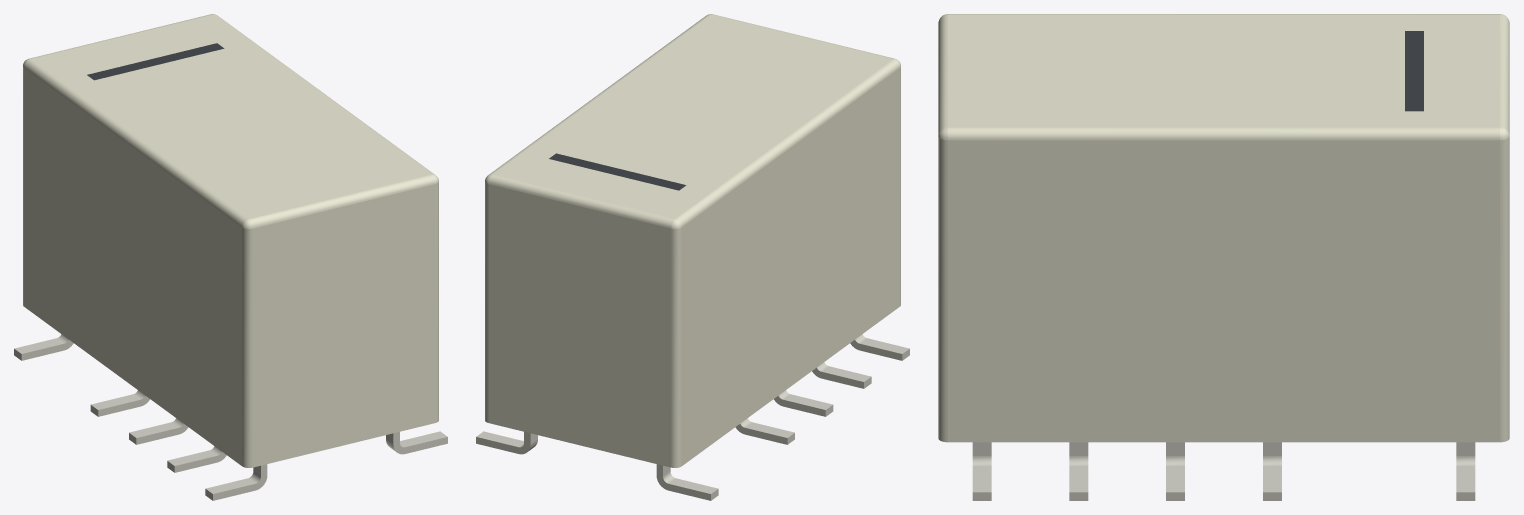
File: kc-relay_dpdt_kemet_ee2_nux_doublecoil.glb
The picture shows the model from 3 angles, left to right: view 1: azimuth 30°, elevation 25°; view 2: azimuth 150°, elevation 25°; view 3: azimuth 270°, elevation 25°; orthographic projection. The views are drawn at different scales.
Parts seen in each view (by area): view 1: 0.75_0.75_0.6666666666666666_0, 0.6666666666666666_0.6666666666666666_0.5833333333333334_0.8, 0.08333333333333333_0.08333333333333333_0.08333333333333333_; view 2: 0.75_0.75_0.6666666666666666_0, 0.6666666666666666_0.6666666666666666_0.5833333333333334_0.8, 0.08333333333333333_0.08333333333333333_0.08333333333333333_; view 3: 0.75_0.75_0.6666666666666666_0, 0.6666666666666666_0.6666666666666666_0.5833333333333334_0.8, 0.08333333333333333_0.08333333333333333_0.08333333333333333_.
Part boxes in pixels (left/top/right/bottom): 0.75_0.75_0.6666666666666666_0: left=23, top=14, right=438, bottom=467; 0.6666666666666666_0.6666666666666666_0.5833333333333334_0.8: left=14, top=334, right=447, bottom=500; 0.08333333333333333_0.08333333333333333_0.08333333333333333_: left=87, top=43, right=224, bottom=80; 0.75_0.75_0.6666666666666666_0: left=485, top=14, right=900, bottom=467; 0.6666666666666666_0.6666666666666666_0.5833333333333334_0.8: left=476, top=334, right=909, bottom=500; 0.08333333333333333_0.08333333333333333_0.08333333333333333_: left=549, top=153, right=686, bottom=190; 0.75_0.75_0.6666666666666666_0: left=938, top=14, right=1509, bottom=442; 0.6666666666666666_0.6666666666666666_0.5833333333333334_0.8: left=972, top=442, right=1475, bottom=500; 0.08333333333333333_0.08333333333333333_0.08333333333333333_: left=1405, top=31, right=1423, bottom=111.
Size of the model in its own units: 0.9 by 1.04 by 1.5.
